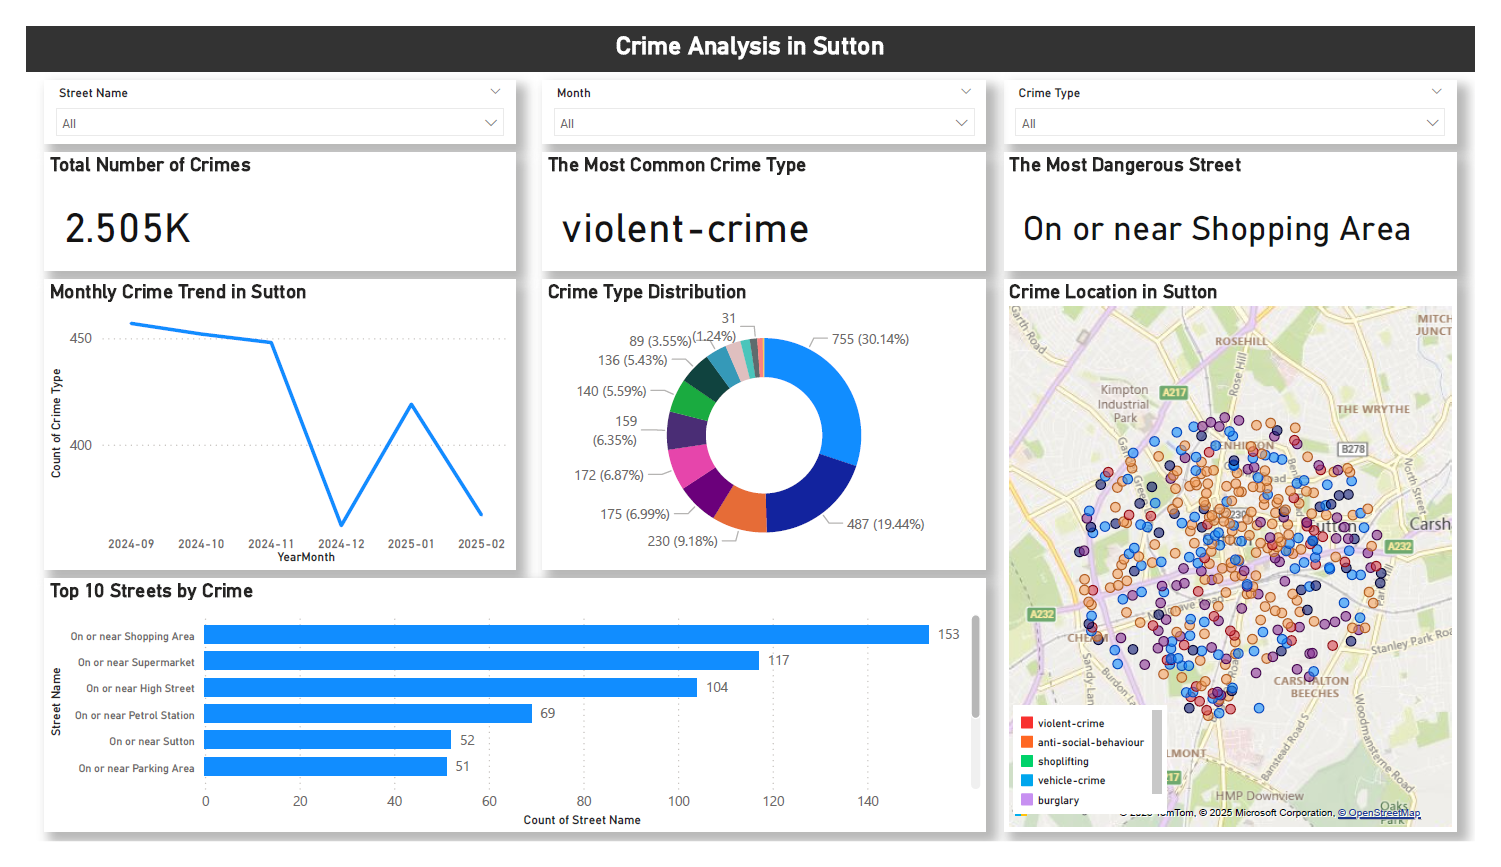

The page's visual inventory and layout, read from the dashboard file:
{"tool":"powerbi","page":{"name":"Page 1","canvas":[1280,720],"ordinal":0},"visuals":[{"type":"slicer","fields":{"Values":["crimedata.Crime Type"]},"box":[864,48,400,56],"z":0},{"type":"slicer","fields":{"Values":["crimedata.Month"]},"box":[456,48,392,56],"z":1000},{"type":"slicer","fields":{"Values":["crimedata.Street Name"]},"box":[16,48,416,56],"z":2000},{"type":"cardVisual","title":"Total Number of Crimes","fields":{"Data":["CountNonNull(crimedata.Crime Type)"]},"box":[16,112,416,104],"z":3000},{"type":"cardVisual","title":"The Most Common Crime Type","fields":{"Data":["crimedata.MostCommonCrimeType"]},"box":[456,112,392,104],"z":4000},{"type":"cardVisual","title":"The Most Dangerous Street","fields":{"Data":["crimedata.MostDangerousStreet"]},"box":[864,112,400,104],"z":5000},{"type":"lineChart","title":"Monthly Crime Trend in Sutton","fields":{"Y":["CountNonNull(crimedata.Crime Type)"],"Category":["crimedata.YearMonth"]},"box":[16,224,416,256],"z":6000},{"type":"donutChart","title":"Crime Type Distribution","fields":{"Category":["crimedata.Crime Type"],"Y":["CountNonNull(crimedata.Crime Type)"]},"box":[456,224,392,256],"z":7000},{"type":"clusteredBarChart","title":"Top 10 Streets by Crime","fields":{"Category":["crimedata.Street Name"],"Y":["CountNonNull(crimedata.Street Name)"]},"box":[16,488,832,224],"z":8000},{"type":"map","title":"Crime Location in Sutton","fields":{"Y":["Avg(crimedata.Latitude)"],"X":["Avg(crimedata.Longitude)"],"Category":["crimedata.Latitude","crimedata.Longitude"]},"box":[864,224,400,488],"z":9000},{"type":"textbox","box":[872,600,136,96],"z":10000},{"type":"textbox","box":[0,0,1280,40],"z":11000}]}

Visuals, with their boxes in screenshot pixels (x1, y1, x2, y2), scaled from the page's 1280x720 canvas onto the 1501x867 screenshot:
slicer - crimedata.Crime Type: locate(1013, 58, 1482, 125)
slicer - crimedata.Month: locate(535, 58, 994, 125)
slicer - crimedata.Street Name: locate(19, 58, 507, 125)
"Total Number of Crimes" cardVisual: locate(19, 135, 507, 260)
"The Most Common Crime Type" cardVisual: locate(535, 135, 994, 260)
"The Most Dangerous Street" cardVisual: locate(1013, 135, 1482, 260)
"Monthly Crime Trend in Sutton" lineChart: locate(19, 270, 507, 578)
"Crime Type Distribution" donutChart: locate(535, 270, 994, 578)
"Top 10 Streets by Crime" clusteredBarChart: locate(19, 588, 994, 857)
"Crime Location in Sutton" map: locate(1013, 270, 1482, 857)
textbox: locate(1023, 722, 1182, 838)
textbox: locate(0, 0, 1500, 48)
